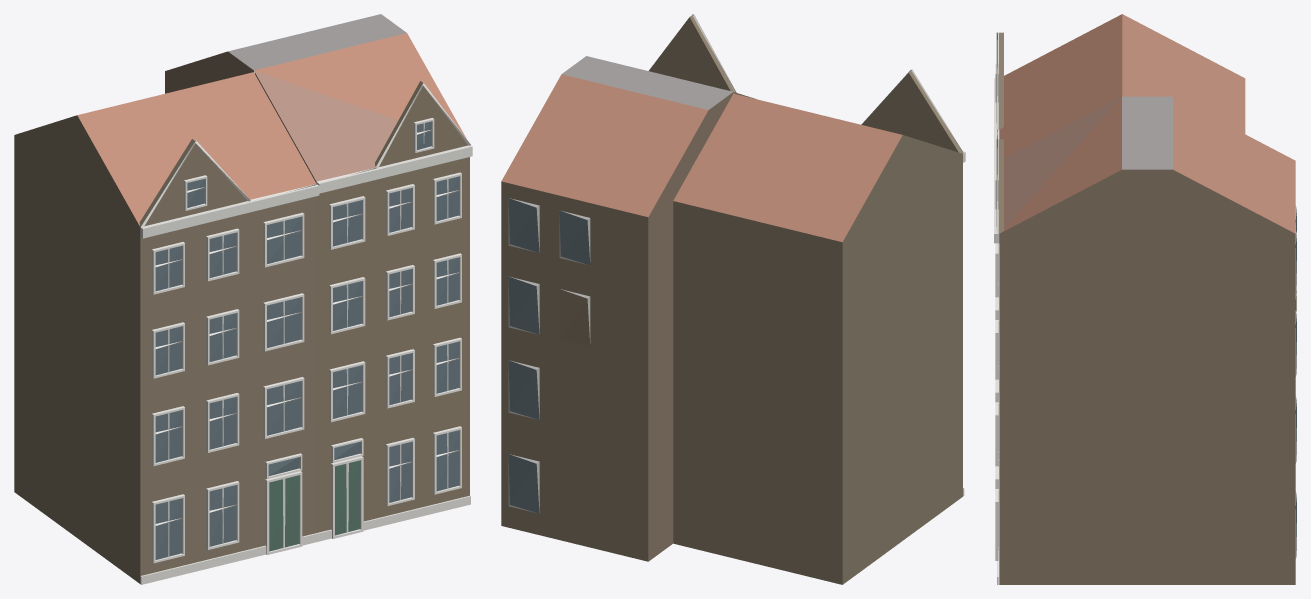
Rendered from chunk-face-heije-41-53-r1.lod2.glb.
The picture shows the model from 3 angles, left to right: view 1: azimuth 30°, elevation 25°; view 2: azimuth 150°, elevation 25°; view 3: azimuth 270°, elevation 25°; orthographic projection. The views are drawn at different scales.
Visible parts, largest first — view 1: lod2; view 2: lod2; view 3: lod2.
Boxes of the visible parts, bbox=[...] form: lod2: bbox=[14, 14, 472, 584]; lod2: bbox=[501, 14, 965, 584]; lod2: bbox=[994, 14, 1296, 584].
Size of the model in its own units: 12.54 by 15.74 by 10.2.
